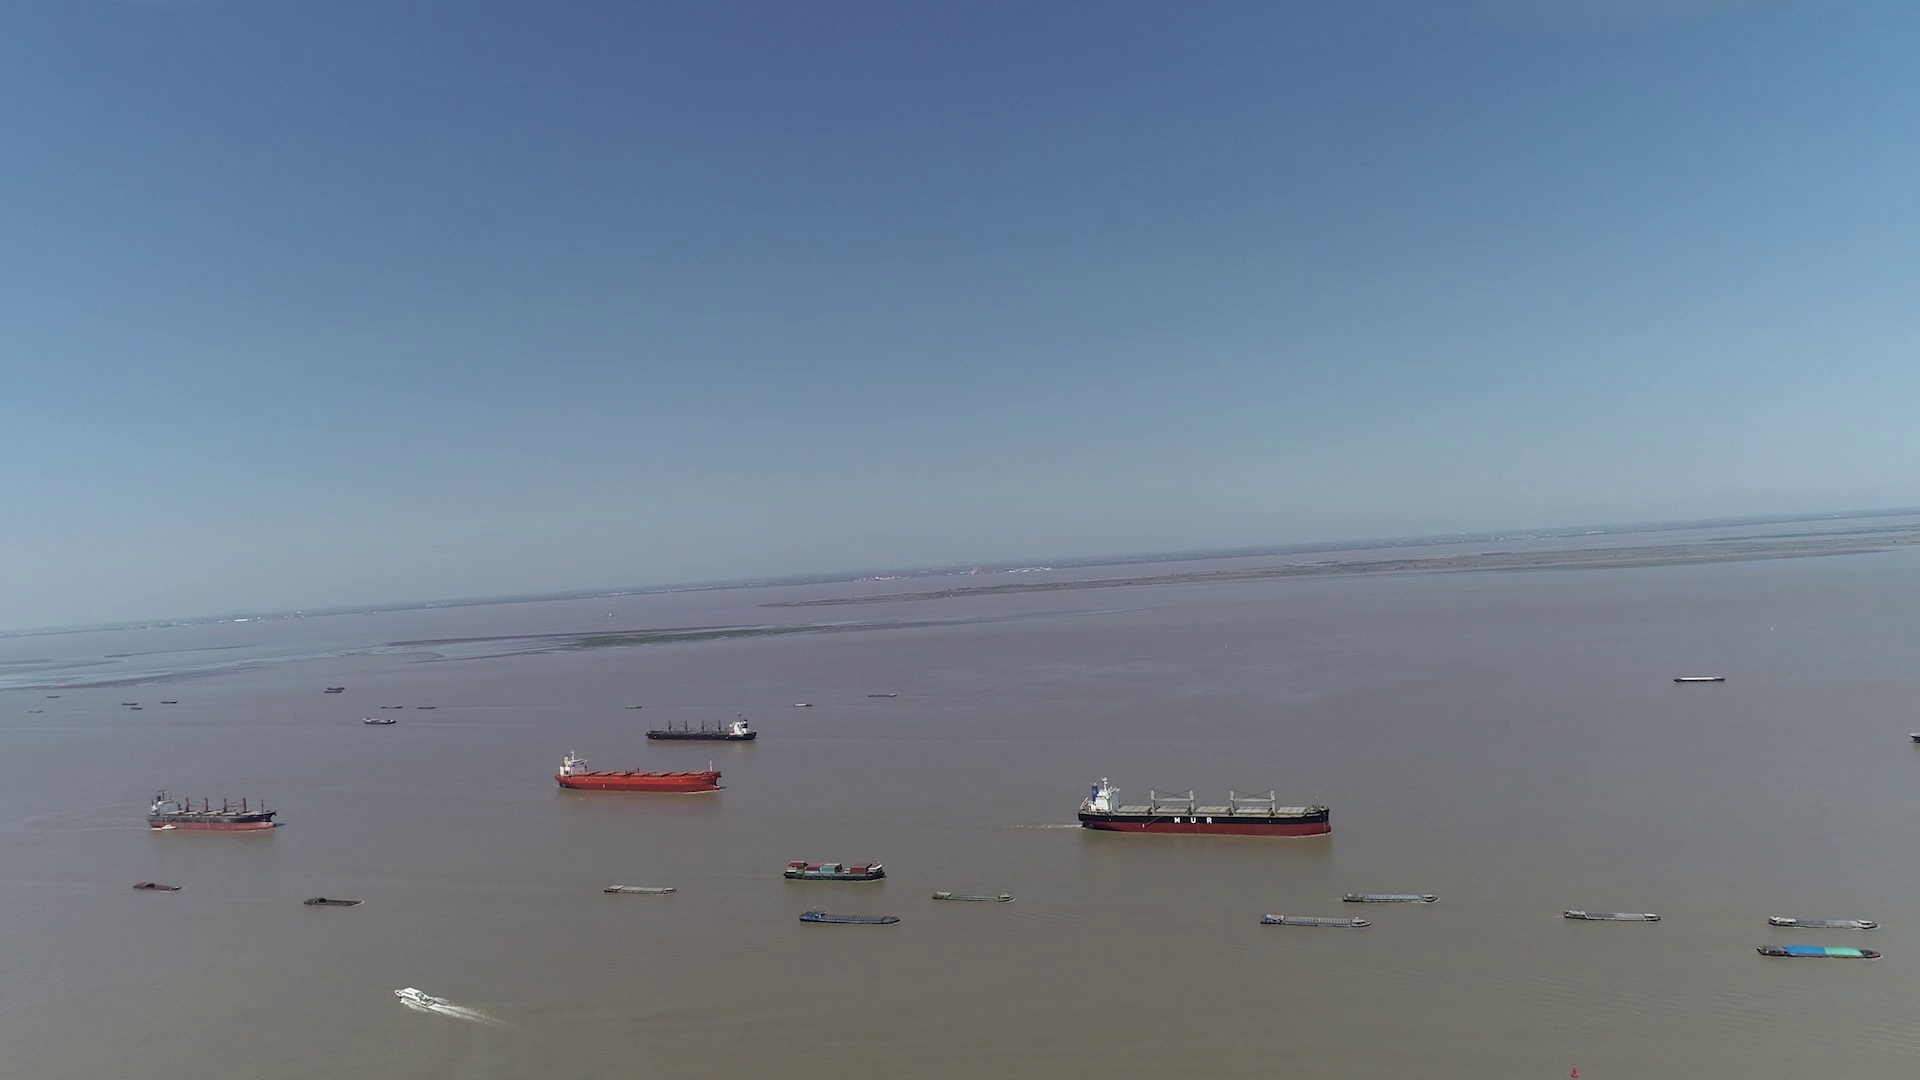ship: (1080, 773, 1329, 837), (555, 752, 721, 794), (146, 790, 277, 832), (646, 716, 757, 741), (781, 860, 885, 881), (1255, 913, 1373, 928), (798, 906, 895, 924), (1768, 914, 1876, 928), (1564, 906, 1662, 922), (400, 986, 452, 1015), (1755, 945, 1880, 957), (1342, 890, 1436, 905), (934, 887, 1010, 902), (604, 882, 674, 894), (303, 895, 361, 906), (132, 881, 179, 891), (1673, 675, 1726, 683), (364, 717, 393, 725)
